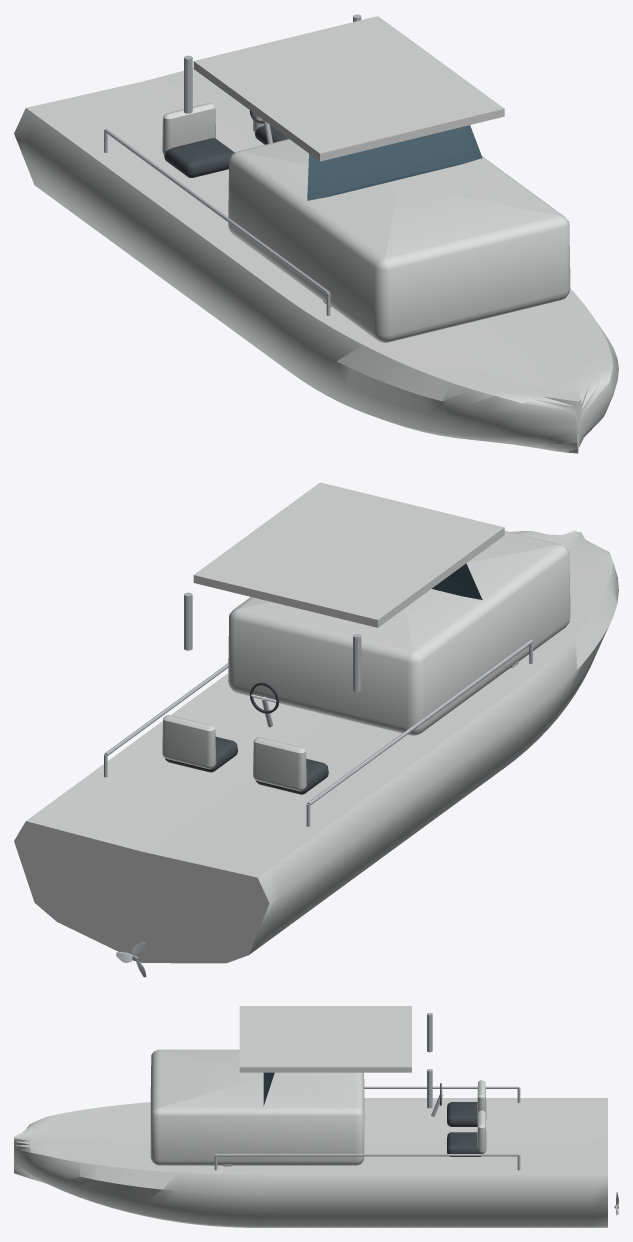
Rendered from powerboat-racing-and-launch-ramp-small-cabin-cruiser-5279c14e__22257.glb.
3 renders of one model, top to bottom at view 1: azimuth 30°, elevation 25°; view 2: azimuth 150°, elevation 25°; view 3: azimuth 270°, elevation 25°, orthographic. The views are drawn at different scales.
Parts seen in each view (by area): view 1: small-cabin-cruiser; view 2: small-cabin-cruiser; view 3: small-cabin-cruiser.
Part boxes in pixels (bbox=[...]): small-cabin-cruiser: bbox=[14, 14, 618, 453]; small-cabin-cruiser: bbox=[14, 482, 618, 963]; small-cabin-cruiser: bbox=[14, 1006, 607, 1227].
Size of the model in its own units: 2.7 by 2.71 by 8.15.
